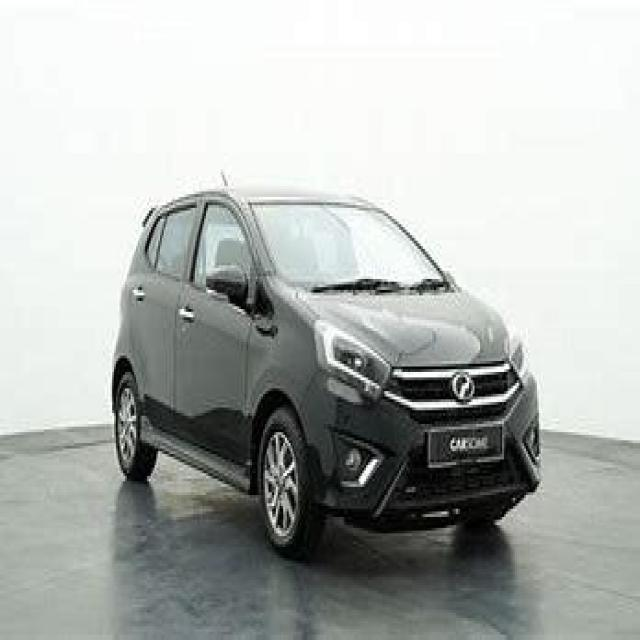PeroduaAxia: (108, 171, 543, 560)
